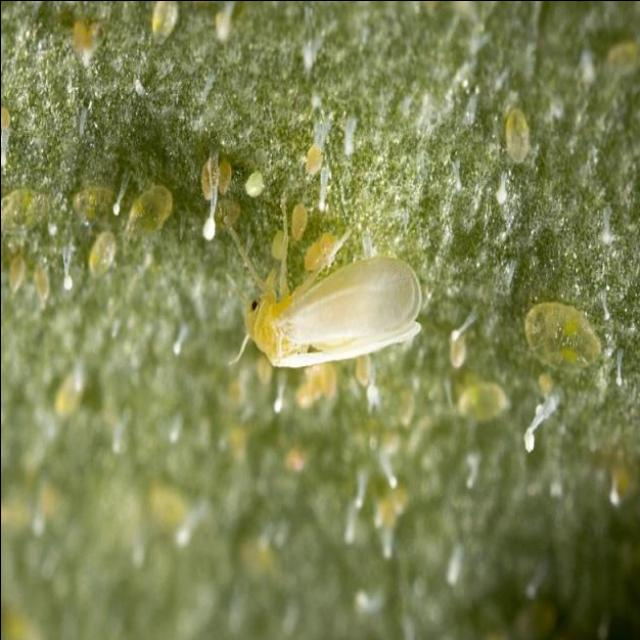Whitefly: (222, 215, 426, 379)
